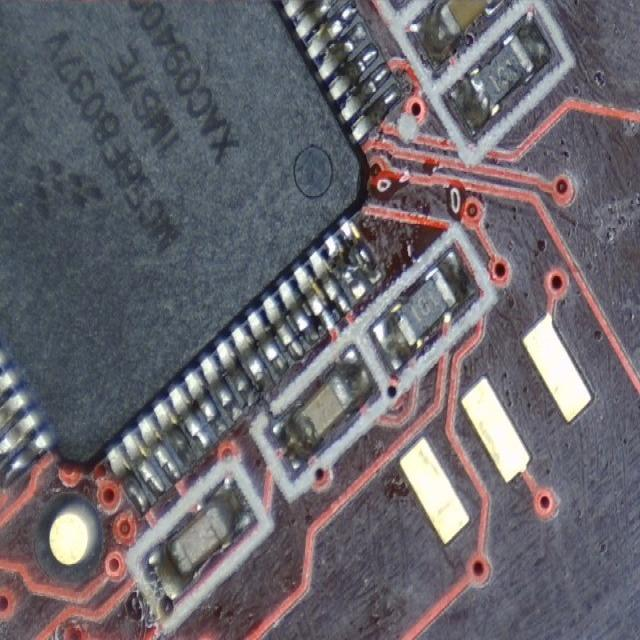Short_circuit: (324, 216, 382, 299)
